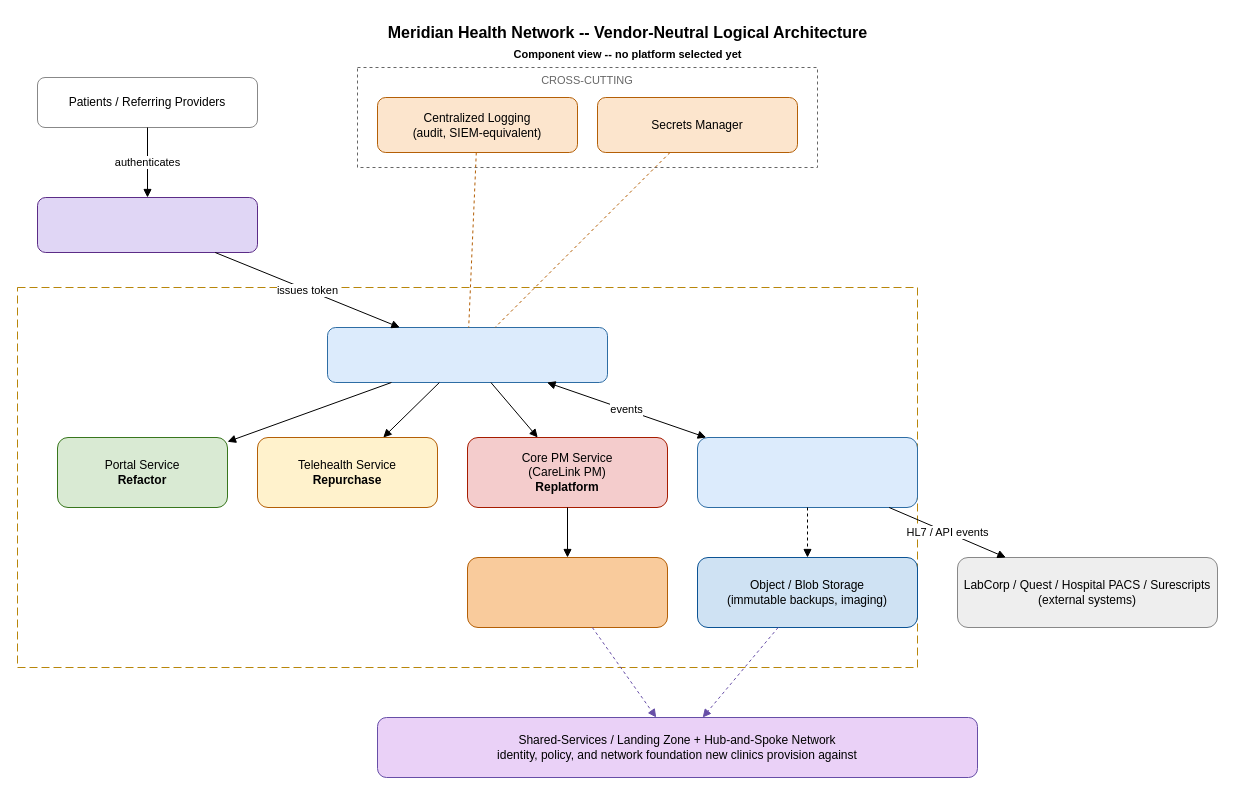
The diagram is 1235 pixels wide and 795 high, and some of its shapes have lost their labels. Each missing label, with the box of its shape:
API Gateway (validates auth on every call): (326, 326, 608, 382)
Event / Integration Bus (pub/sub, replay, dead-letter): (696, 436, 918, 508)
Identity Provider (hybrid) MFA + conditional access: (36, 196, 258, 252)
Primary Relational Database (managed, ACID): (466, 556, 668, 628)
ZERO TRUST BOUNDARY -- verify identity, device, context on every call: (16, 286, 918, 668)
